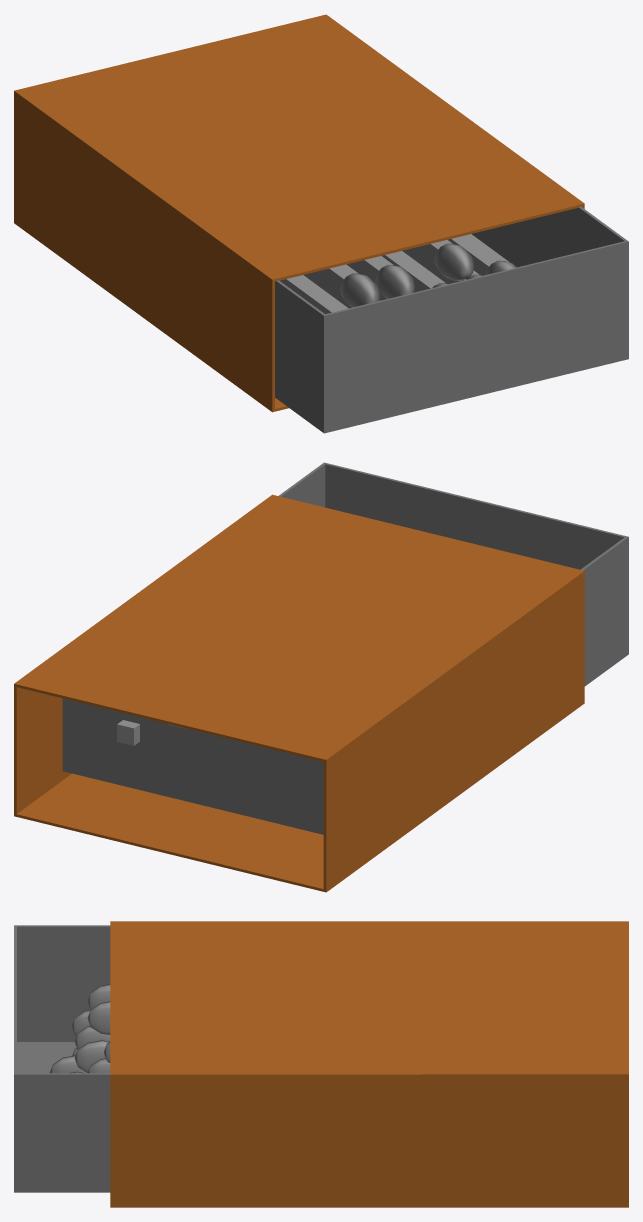
3 renders of one model, top to bottom at view 1: azimuth 30°, elevation 25°; view 2: azimuth 150°, elevation 25°; view 3: azimuth 270°, elevation 25°, orthographic.
Parts seen in each view (by area): view 1: 火柴盒001, 火柴盒002, 火柴055, 火柴063, 火柴061, 火柴062, 火柴056, 火柴059; view 2: 火柴盒001, 火柴盒002; view 3: 火柴盒001, 火柴盒002, 火柴058, 火柴063, 火柴057, 火柴049.
Boxes of the visible parts, x1=… form: 火柴盒001: x1=14, y1=14, x2=584, y2=412; 火柴盒002: x1=275, y1=206, x2=628, y2=433; 火柴055: x1=312, y1=264, x2=379, y2=307; 火柴063: x1=347, y1=256, x2=414, y2=298; 火柴061: x1=413, y1=239, x2=474, y2=280; 火柴062: x1=448, y1=235, x2=516, y2=275; 火柴056: x1=280, y1=275, x2=348, y2=313; 火柴059: x1=382, y1=251, x2=448, y2=292; 火柴盒001: x1=14, y1=494, x2=584, y2=892; 火柴盒002: x1=62, y1=462, x2=628, y2=834; 火柴盒001: x1=110, y1=921, x2=628, y2=1207; 火柴盒002: x1=14, y1=925, x2=110, y2=1192; 火柴058: x1=74, y1=1040, x2=109, y2=1072; 火柴063: x1=87, y1=1001, x2=110, y2=1034; 火柴057: x1=74, y1=1026, x2=110, y2=1049; 火柴049: x1=49, y1=1055, x2=86, y2=1073.
Bounding box in the file's own units: 3.7 × 1.5 × 6.29.
